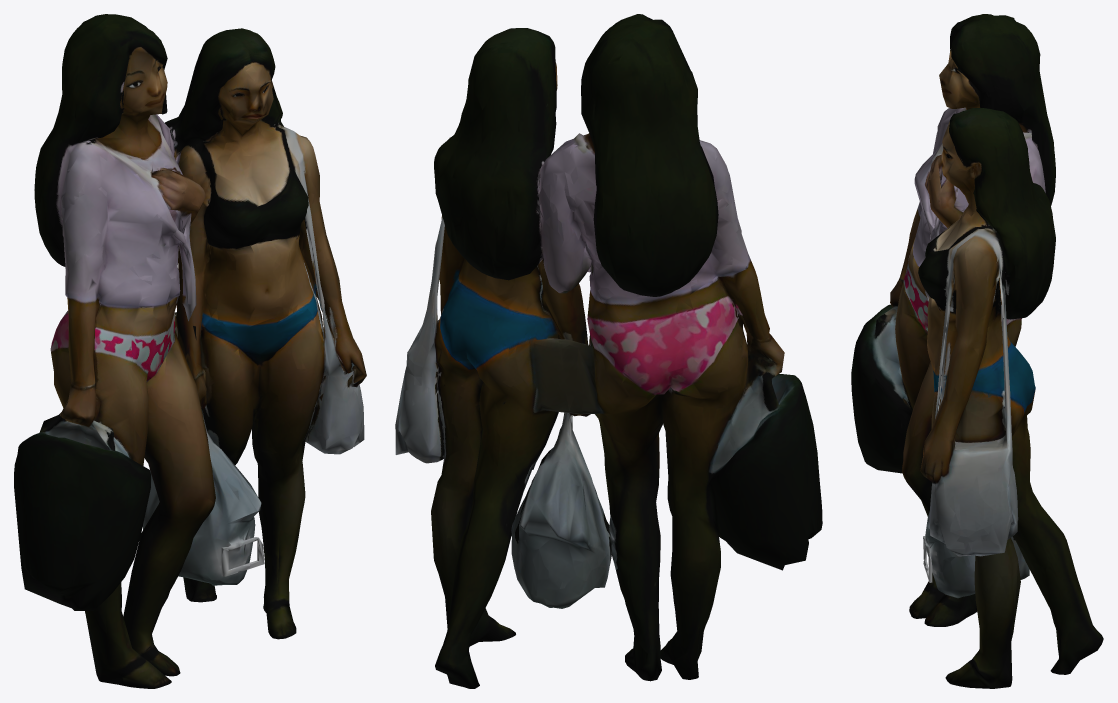
File: beach-visitors-BydeQyMt.glb
The picture shows the model from 3 angles, left to right: view 1: azimuth 30°, elevation 25°; view 2: azimuth 150°, elevation 25°; view 3: azimuth 270°, elevation 25°; orthographic projection. The views are drawn at different scales.
Parts seen in each view (by area): view 1: User_Tripo_Beach_Pair; view 2: User_Tripo_Beach_Pair; view 3: User_Tripo_Beach_Pair.
Part boxes in pixels (x1,y1,x2,y2): User_Tripo_Beach_Pair: (14, 14, 366, 688); User_Tripo_Beach_Pair: (395, 14, 822, 688); User_Tripo_Beach_Pair: (851, 14, 1103, 688).
Size of the model in its own units: 0.9933 by 1.7 by 0.6557.
Materials: 1 (1 with a texture image).
